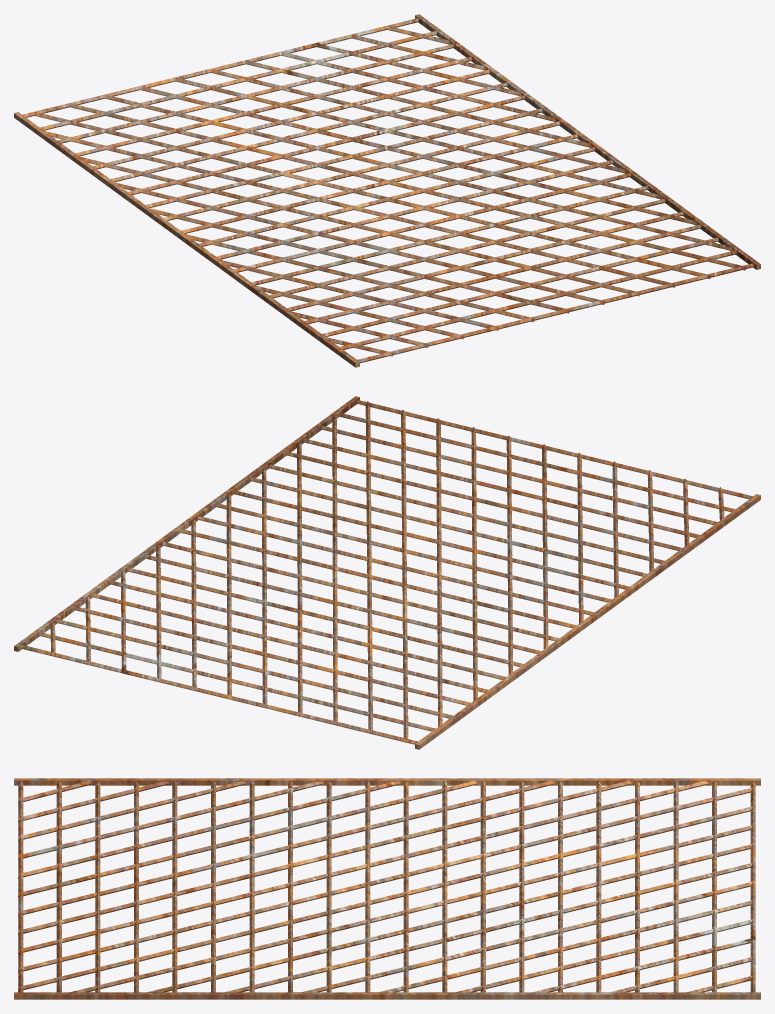
File: grate.FBX
The picture shows the model from 3 angles, top to bottom: view 1: azimuth 30°, elevation 25°; view 2: azimuth 150°, elevation 25°; view 3: azimuth 270°, elevation 25°; orthographic projection. The views are drawn at different scales.
Parts seen in each view (by area): view 1: grate; view 2: grate; view 3: grate.
Boxes of the visible parts, left/top/right/bottom form: grate: left=14, top=14, right=760, bottom=367; grate: left=14, top=396, right=760, bottom=749; grate: left=14, top=778, right=760, bottom=999.
Size of the model in its own units: 145 by 1.6 by 212.
